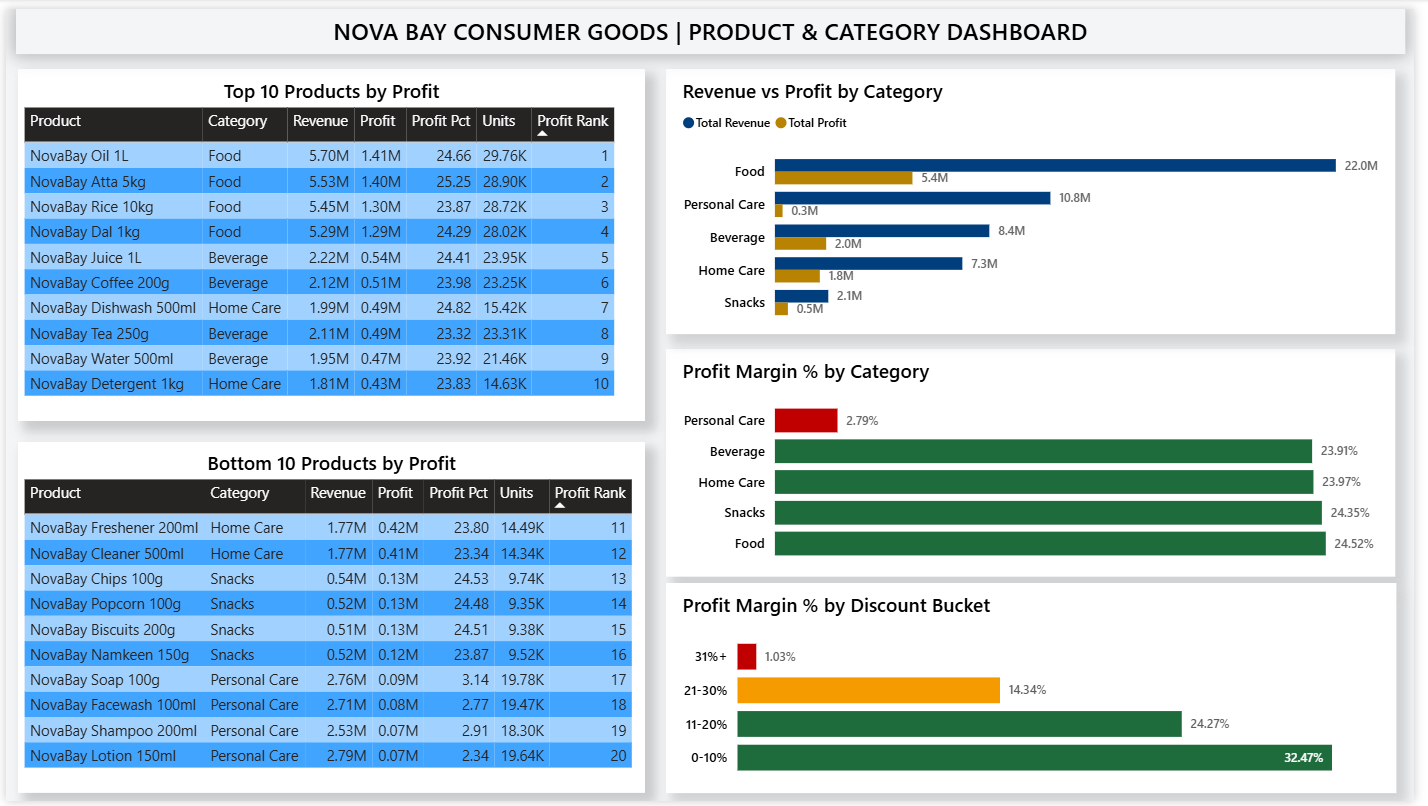

The page's visual inventory and layout, read from the dashboard file:
{"tool":"powerbi","page":{"name":"Product & Category Analysis","canvas":[1280,720],"ordinal":2},"visuals":[{"type":"clusteredBarChart","title":"Profit Margin % by Category","fields":{"Category":["novabay_db fact_sales.category"],"Y":["_Measures.Profit Margin %"]},"box":[600.3,309.5,663.3,206.6],"z":0},{"type":"clusteredBarChart","title":"Revenue vs Profit by Category","fields":{"Category":["novabay_db fact_sales.category"],"Y":["_Measures.Total Revenue","_Measures.Total Profit"]},"box":[600.3,55,663.3,241.2],"z":1000},{"type":"tableEx","title":"Top 10 Products by Profit","fields":{"Values":["novabay_db vw_product_profitability.product_name","novabay_db vw_product_profitability.category","Sum(novabay_db vw_product_profitability.total_revenue)","Sum(novabay_db vw_product_profitability.total_profit)","Sum(novabay_db vw_product_profitability.profit_margin_pct)","Sum(novabay_db vw_product_profitability.total_units)","Sum(novabay_db vw_product_profitability.profit_rank)"]},"box":[10.6,55,570.1,320.1],"z":2000},{"type":"tableEx","title":"Bottom 10 Products by Profit","fields":{"Values":["novabay_db vw_product_profitability.product_name","novabay_db vw_product_profitability.category","Sum(novabay_db vw_product_profitability.total_revenue)","Sum(novabay_db vw_product_profitability.total_profit)","Sum(novabay_db vw_product_profitability.profit_margin_pct)","Sum(novabay_db vw_product_profitability.total_units)","Sum(novabay_db vw_product_profitability.profit_rank)"]},"box":[10.6,393.7,570.1,319.2],"z":3000},{"type":"clusteredBarChart","title":"Profit Margin % by Discount Bucket","fields":{"Category":["novabay_db fact_sales.discount_bucket"],"Y":["_Measures.Profit Margin %"]},"box":[600,522.1,663.6,190.7],"z":4000},{"type":"textbox","box":[8.9,0,1262.7,40.8],"z":5000}]}

Visuals, with their boxes in screenshot pixels (x1, y1, x2, y2), scaled from the page's 1280x720 canvas onto the 1428x806 screenshot:
"Profit Margin % by Category" clusteredBarChart: rect(670, 346, 1410, 578)
"Revenue vs Profit by Category" clusteredBarChart: rect(670, 62, 1410, 332)
"Top 10 Products by Profit" tableEx: rect(12, 62, 648, 420)
"Bottom 10 Products by Profit" tableEx: rect(12, 441, 648, 798)
"Profit Margin % by Discount Bucket" clusteredBarChart: rect(669, 584, 1410, 798)
textbox: rect(10, 0, 1419, 46)
